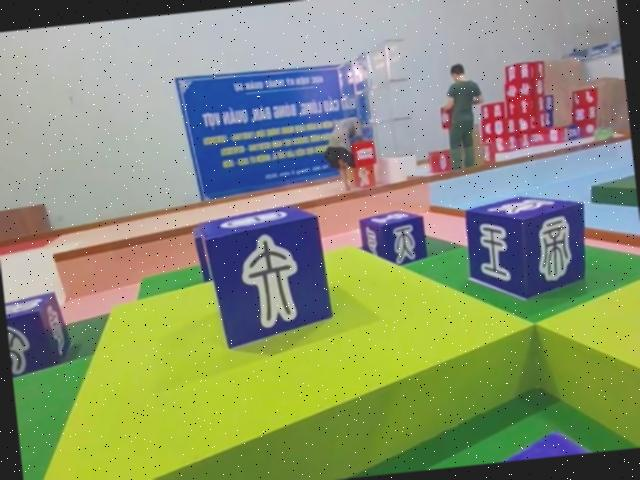R2 Fake Blue: (196, 201, 334, 353), (461, 191, 594, 308), (5, 292, 75, 387), (356, 210, 427, 272)
